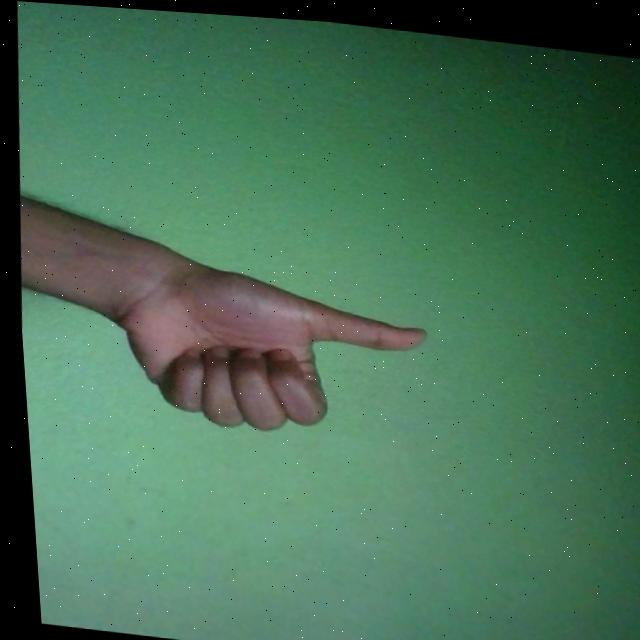Good Job: (96, 254, 430, 446)
